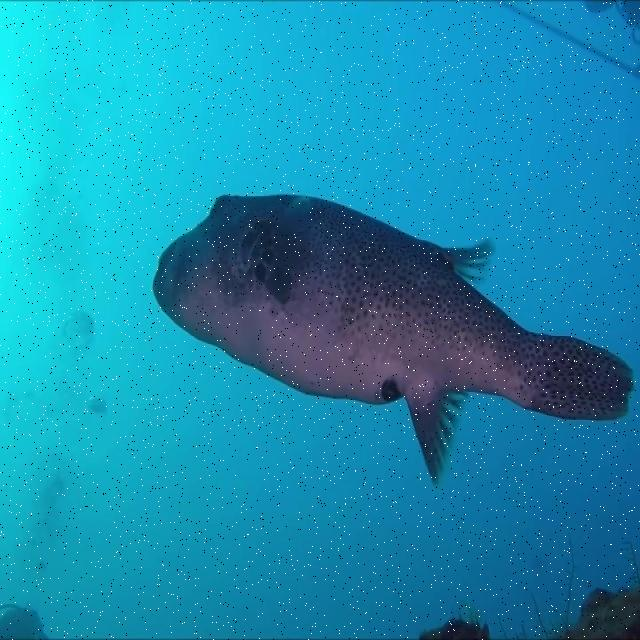fish: (153, 195, 634, 484)
